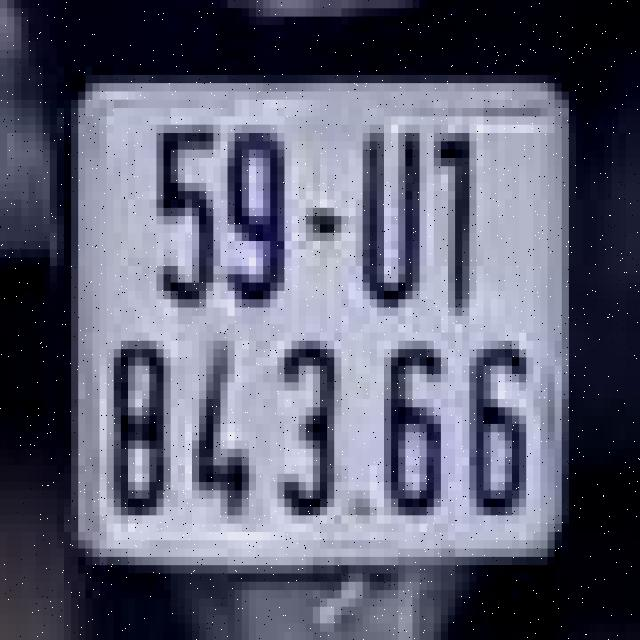1: (434, 112, 491, 312)
3: (267, 332, 345, 524)
4: (182, 332, 260, 532)
5: (139, 116, 224, 332)
6: (377, 324, 462, 524), (462, 320, 540, 536)
8: (92, 328, 170, 520)
9: (220, 108, 292, 324)
U: (338, 121, 430, 320)
